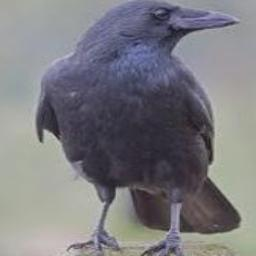Crow: (37, 0, 244, 256)
